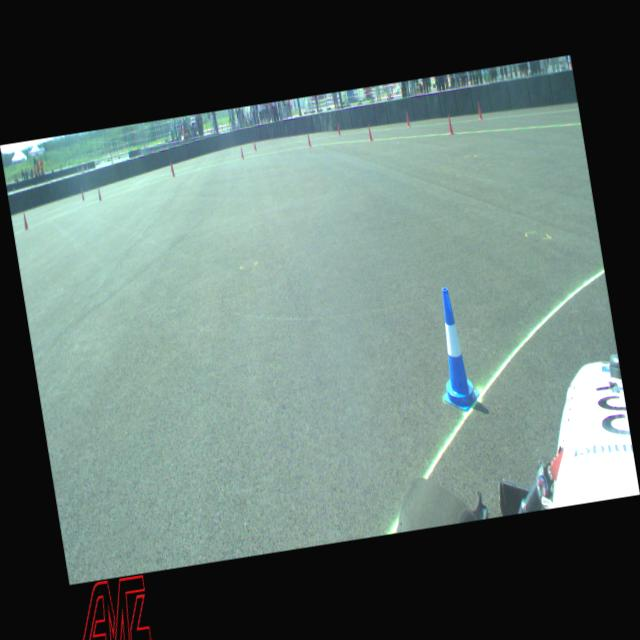blue_cone: (426, 284, 481, 414)
